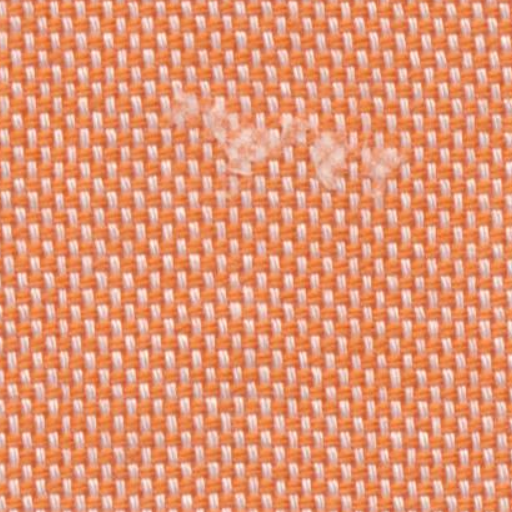DuanSha: (136, 71, 416, 206)
